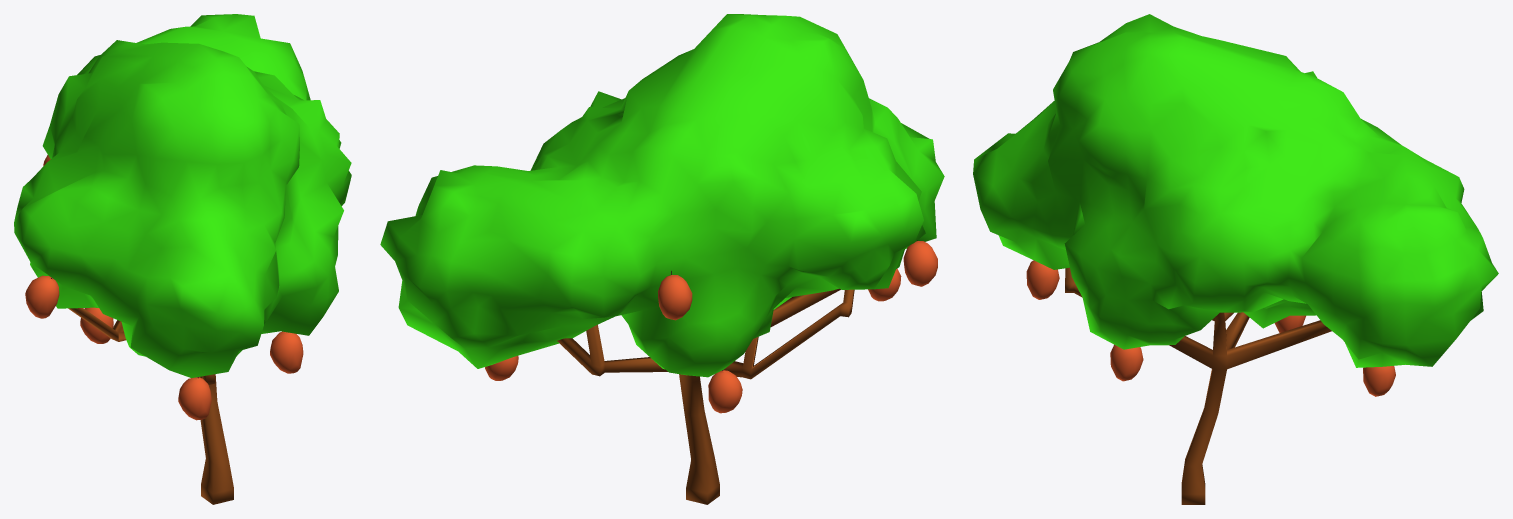
The model's file is SM_MangoTree_002_LOD2.fbx.
The picture shows the model from 3 angles, left to right: view 1: azimuth 30°, elevation 25°; view 2: azimuth 150°, elevation 25°; view 3: azimuth 270°, elevation 25°; orthographic projection. The views are drawn at different scales.
Visible parts, largest first — view 1: MangoTree_02; view 2: MangoTree_02; view 3: MangoTree_02.
Boxes of the visible parts, x1,y1,x2,y2 form: MangoTree_02: (14,14,351,504); MangoTree_02: (380,14,944,504); MangoTree_02: (973,14,1498,504).
Bounding box in the file's own units: 273 × 301 × 318.
